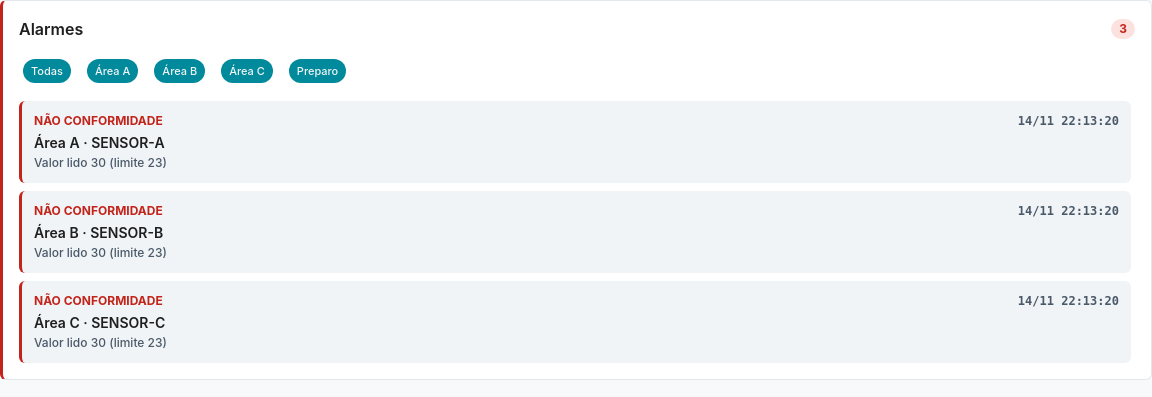
AlarmsWidget › chip "Todas" (toggle-all) › tap em "Todas" com todas ativas -> limpa (chips de área false, painel "Nenhuma área selecionada")
Click the button "Todas" at (47, 71), box [19,53,75,89]
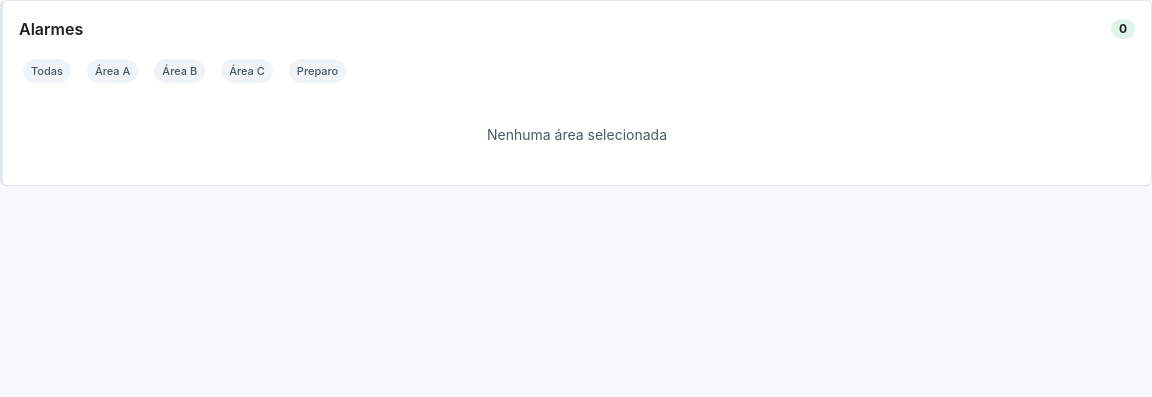
Now the text "Nenhuma área selecionada" is shown, box [487,126,667,143]
